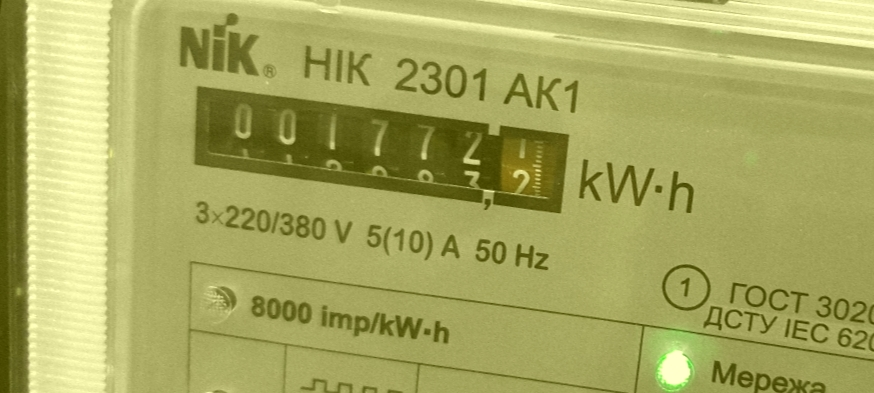0: (225, 98, 258, 142), (272, 105, 301, 147)
1: (321, 111, 343, 152), (513, 136, 530, 163)
2: (458, 129, 486, 169), (505, 165, 532, 197)
3: (459, 168, 483, 192)
7: (363, 116, 391, 160), (409, 122, 436, 163)
screen: (172, 66, 590, 235)
